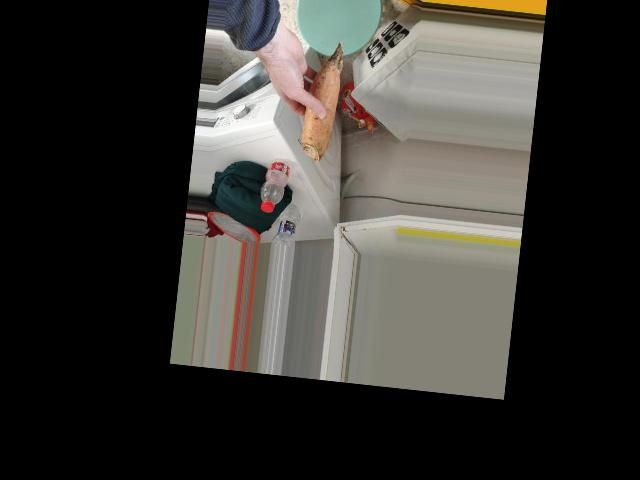sweet_potato: (300, 42, 344, 154)
